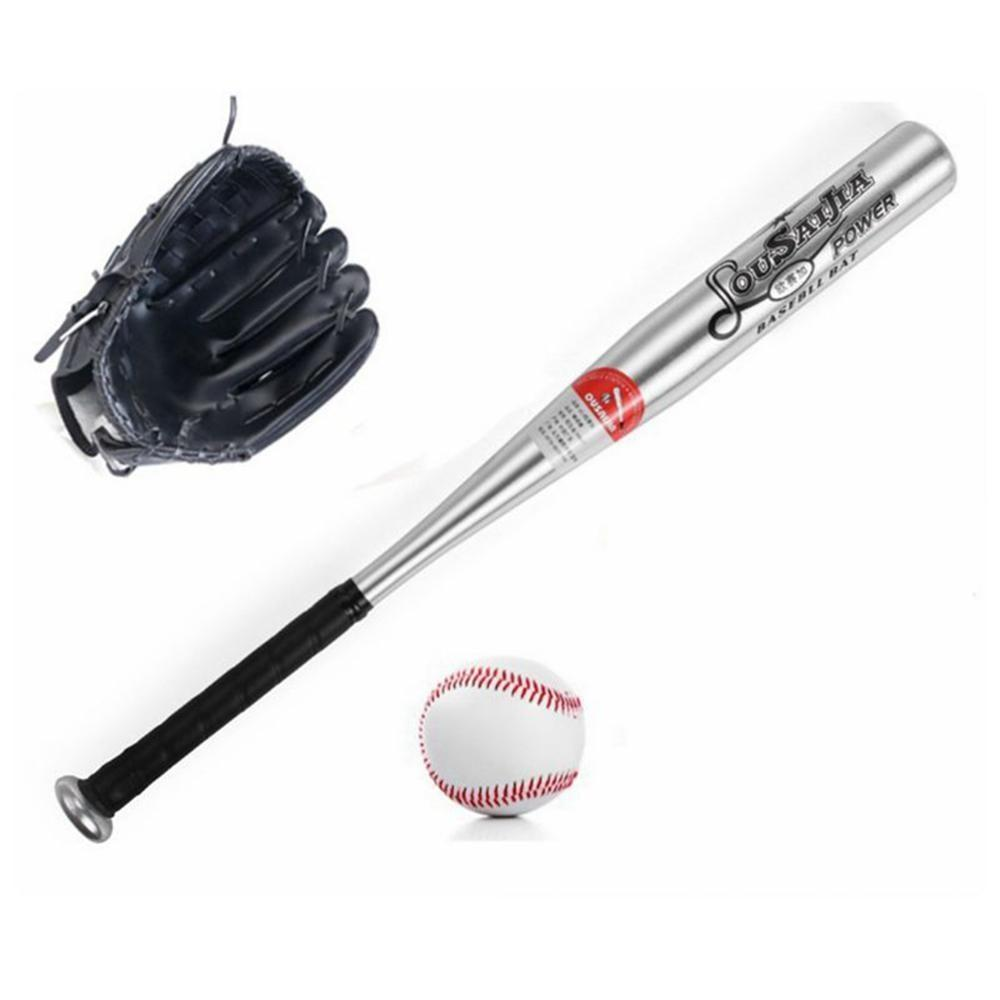Baseball-Bat: (378, 73, 966, 602)
